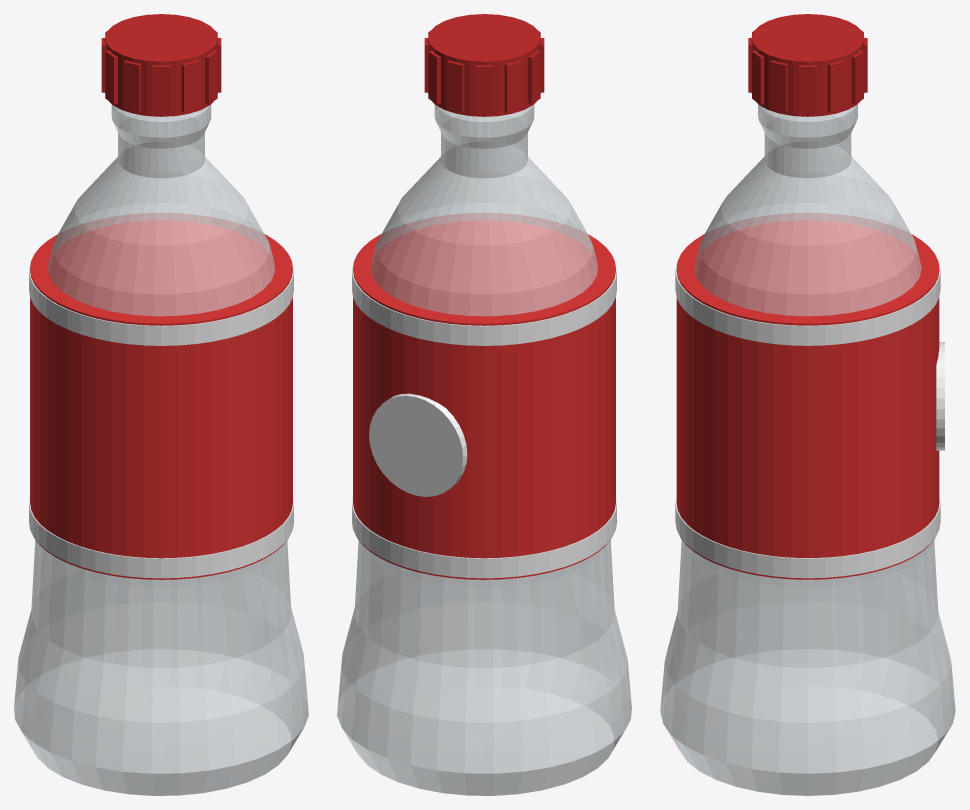
The model's file is botellabasura.glb.
3 views of the same model, side by side, from view 1: azimuth 30°, elevation 25°; view 2: azimuth 150°, elevation 25°; view 3: azimuth 270°, elevation 25° (orthographic).
Parts seen in each view (by area): view 1: CuerpoBotella, EtiquetaRoja, Tapa, FranjaBlancaSup, FranjaBlancaInf, Estria8, Estria7, Estria9, Estria10, Estria6; view 2: CuerpoBotella, EtiquetaRoja, LogoBlanco, Tapa, FranjaBlancaSup, FranjaBlancaInf, Estria4, Estria3, Estria5, Estria2, Estria6; view 3: CuerpoBotella, EtiquetaRoja, Tapa, FranjaBlancaSup, FranjaBlancaInf, LogoBlanco, Estria0, Estria1, Estria11, Estria10, Estria2.
Boxes of the visible parts, x1,y1,x2,y2 form: CuerpoBotella: (14,104,308,795); EtiquetaRoja: (30,213,292,579); Tapa: (105,14,217,116); FranjaBlancaSup: (29,257,293,345); FranjaBlancaInf: (29,497,293,578); Estria8: (152,65,170,114); Estria7: (124,60,141,112); Estria9: (181,60,198,112); Estria10: (205,50,217,104); Estria6: (105,50,117,104); CuerpoBotella: (337,104,631,795); EtiquetaRoja: (353,213,615,579); LogoBlanco: (369,393,467,496); Tapa: (428,14,540,116); FranjaBlancaSup: (352,257,616,345); FranjaBlancaInf: (352,497,616,578); Estria4: (475,65,493,114); Estria3: (447,60,464,112); Estria5: (504,60,521,112); Estria2: (428,50,440,104); Estria6: (528,50,540,104); CuerpoBotella: (660,104,955,795); EtiquetaRoja: (676,213,939,579); Tapa: (751,14,864,116); FranjaBlancaSup: (675,256,940,345); FranjaBlancaInf: (675,496,940,578); LogoBlanco: (936,342,944,450); Estria0: (799,65,816,114); Estria1: (828,60,845,112); Estria11: (770,60,787,112); Estria10: (752,50,764,104); Estria2: (851,50,863,104).
Size of the model in its own units: 0.136 by 0.362 by 0.136.
